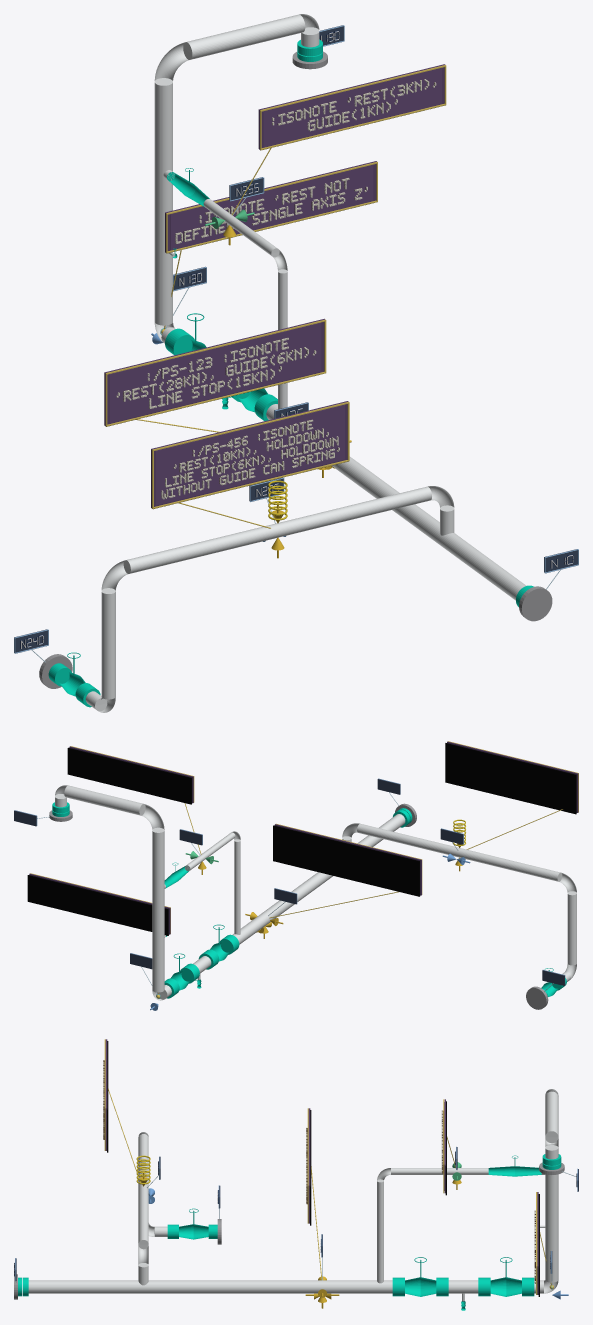
The model's file is BM_CII_inputxml_actual_engineering.glb.
3 renders of one model, top to bottom at view 1: azimuth 30°, elevation 25°; view 2: azimuth 150°, elevation 25°; view 3: azimuth 270°, elevation 25°, orthographic. The views are drawn at different scales.
Parts seen in each view (by area): view 1: isonote-node-35-readable-nameplate, isonote-node-205-readable-nameplate, isonote-node-130-readable-nameplate, isonote-node-255-readable-nameplate, PE_023_BEND_205_TO_210, PE_022_PIPE_200_TO_205, PE_018_BEND_160_TO_170, PE_003_PIPE_30_TO_35, PE_002_PIPE_20_TO_30, PE_017_BEND_150_TO_160, PE_024_BEND_210_TO_220, PE_015_PIPE_130_TO_140 (+2 smaller); view 2: isonote-node-35-readable-nameplate, isonote-node-205-readable-nameplate, isonote-node-130-readable-nameplate, isonote-node-255-readable-nameplate, PE_023_BEND_205_TO_210, PE_022_PIPE_200_TO_205, PE_018_BEND_160_TO_170, PE_017_BEND_150_TO_160, PE_003_PIPE_30_TO_35, PE_024_BEND_210_TO_220, PE_016_PIPE_140_TO_150, PE_029_BEND_70_TO_250 (+5 smaller); view 3: PE_003_PIPE_30_TO_35, PE_002_PIPE_20_TO_30, isonote-node-35-readable-nameplate, PE_004_PIPE_35_TO_70, isonote-node-205-readable-nameplate, PE_016_PIPE_140_TO_150, PE_029_BEND_70_TO_250, PE_015_PIPE_130_TO_140, PE_018_BEND_160_TO_170, PE_022_PIPE_200_TO_205, isonote-node-130-readable-nameplate, isonote-node-255-readable-nameplate (+6 smaller).
Part boxes in pixels (left/top/right/bottom): isonote-node-35-readable-nameplate: left=104, top=318, right=326, bottom=432; isonote-node-205-readable-nameplate: left=151, top=401, right=349, bottom=528; isonote-node-130-readable-nameplate: left=161, top=161, right=377, bottom=333; isonote-node-255-readable-nameplate: left=232, top=64, right=446, bottom=215; PE_023_BEND_205_TO_210: left=123, top=523, right=281, bottom=573; PE_022_PIPE_200_TO_205: left=277, top=486, right=431, bottom=536; PE_018_BEND_160_TO_170: left=183, top=14, right=305, bottom=59; PE_003_PIPE_30_TO_35: left=332, top=456, right=440, bottom=545; PE_002_PIPE_20_TO_30: left=439, top=533, right=526, bottom=600; PE_017_BEND_150_TO_160: left=154, top=78, right=172, bottom=174; PE_024_BEND_210_TO_220: left=101, top=588, right=115, bottom=699; PE_015_PIPE_130_TO_140: left=154, top=249, right=172, bottom=325; isonote-node-35-readable-nameplate: left=269, top=823, right=422, bottom=918; isonote-node-205-readable-nameplate: left=445, top=741, right=578, bottom=849; isonote-node-130-readable-nameplate: left=27, top=873, right=170, bottom=998; isonote-node-255-readable-nameplate: left=67, top=746, right=201, bottom=854; PE_023_BEND_205_TO_210: left=457, top=848, right=562, bottom=881; PE_022_PIPE_200_TO_205: left=357, top=823, right=459, bottom=856; PE_018_BEND_160_TO_170: left=64, top=785, right=145, bottom=815; PE_017_BEND_150_TO_160: left=152, top=827, right=164, bottom=892; PE_003_PIPE_30_TO_35: left=261, top=872, right=332, bottom=923; PE_024_BEND_210_TO_220: left=567, top=891, right=576, bottom=965; PE_016_PIPE_140_TO_150: left=152, top=890, right=164, bottom=943; PE_029_BEND_70_TO_250: left=234, top=840, right=240, bottom=934; PE_003_PIPE_30_TO_35: left=143, top=1280, right=322, bottom=1293; PE_002_PIPE_20_TO_30: left=28, top=1280, right=143, bottom=1293; isonote-node-35-readable-nameplate: left=306, top=1108, right=322, bottom=1280; PE_004_PIPE_35_TO_70: left=322, top=1280, right=380, bottom=1293; isonote-node-205-readable-nameplate: left=103, top=1039, right=140, bottom=1182; PE_016_PIPE_140_TO_150: left=545, top=1174, right=558, bottom=1229; PE_029_BEND_70_TO_250: left=377, top=1179, right=383, bottom=1283; PE_015_PIPE_130_TO_140: left=545, top=1227, right=558, bottom=1282; PE_018_BEND_160_TO_170: left=545, top=1091, right=558, bottom=1143; PE_022_PIPE_200_TO_205: left=138, top=1187, right=148, bottom=1249; isonote-node-130-readable-nameplate: left=534, top=1192, right=553, bottom=1296; isonote-node-255-readable-nameplate: left=441, top=1099, right=455, bottom=1195.
Size of the model in its own units: 4.23 by 2.66 by 4.87.
